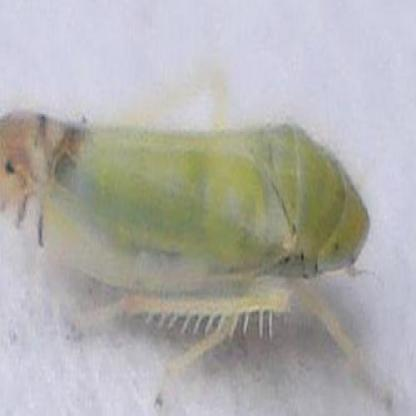green-leafhopper: (1, 107, 366, 323)
